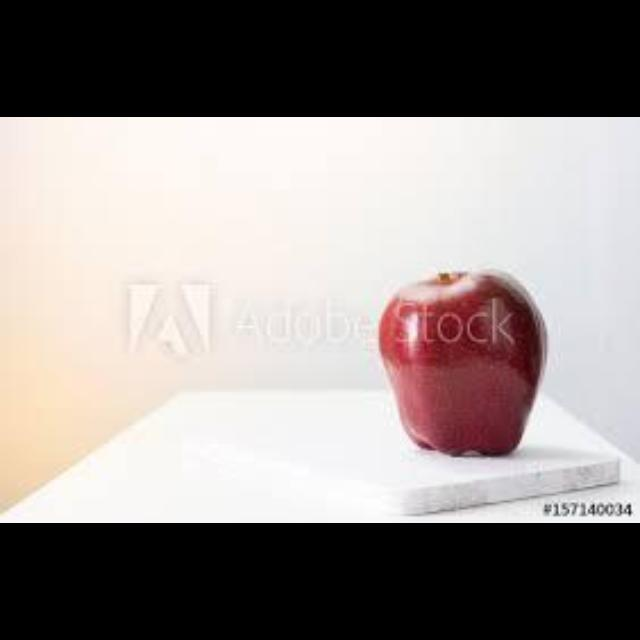apple: (377, 269, 547, 455)
